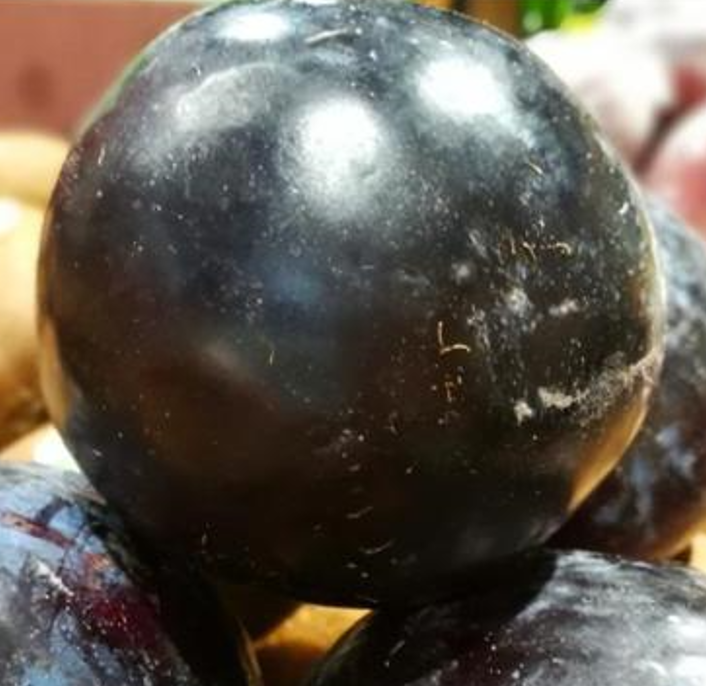plum_B: (37, 1, 668, 612)
